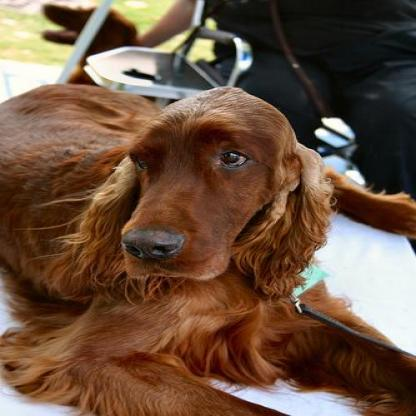Irish_setter: (0, 82, 412, 413)
